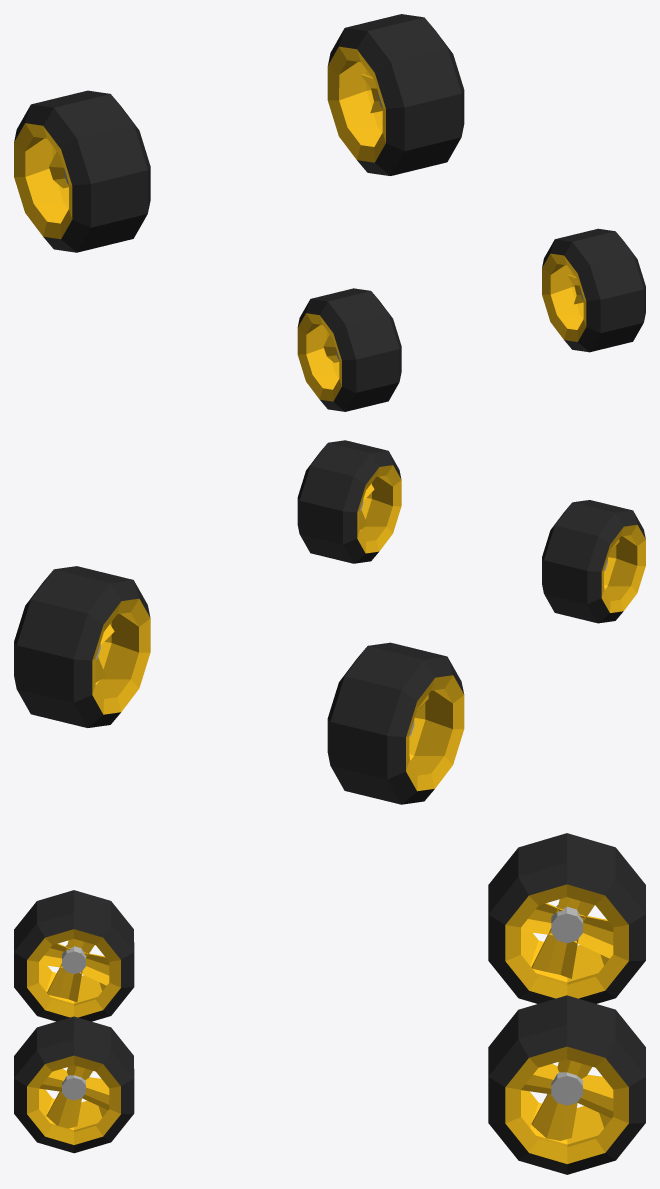
The model's file is Wheels2.fbx.
The picture shows the model from 3 angles, top to bottom: view 1: azimuth 30°, elevation 25°; view 2: azimuth 150°, elevation 25°; view 3: azimuth 270°, elevation 25°; orthographic projection. The views are drawn at different scales.
Parts seen in each view (by area): view 1: Wheels2; view 2: Wheels2; view 3: Wheels2.
Part boxes in pixels (<box>): Wheels2: <box>14,14,645,411</box>; Wheels2: <box>14,440,645,804</box>; Wheels2: <box>14,833,645,1174</box>.
Size of the model in its own units: 831 by 287 by 1094.
